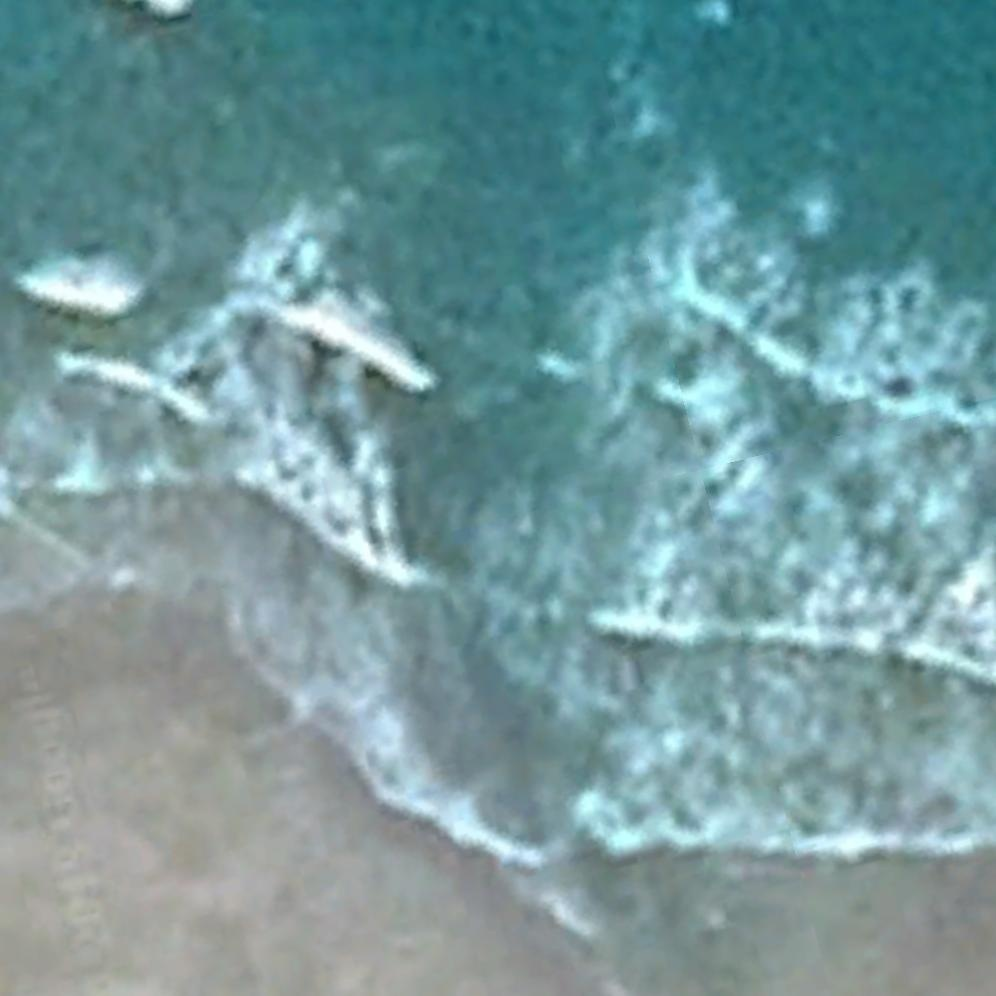rip_current: (304, 199, 679, 822)
